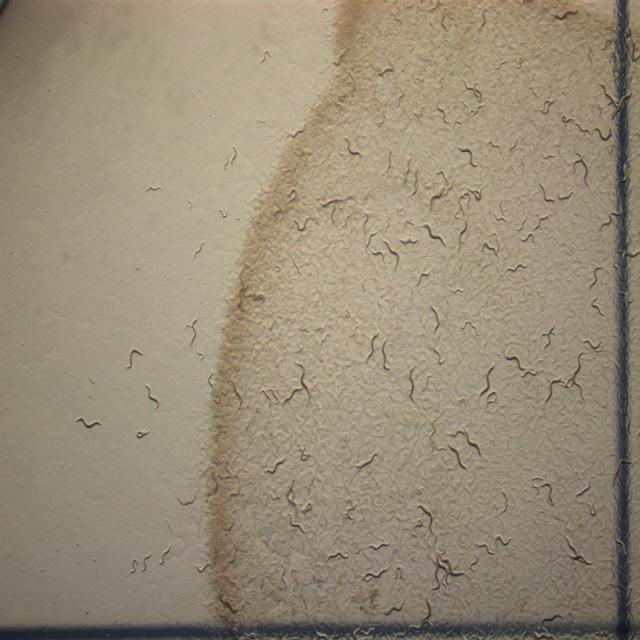filarid: (545, 354, 580, 403), (450, 427, 481, 455), (505, 352, 538, 377), (479, 362, 498, 404), (430, 184, 452, 209), (448, 444, 468, 469), (422, 224, 445, 245), (430, 420, 446, 450), (459, 200, 468, 249), (286, 512, 306, 534), (361, 566, 390, 581), (365, 330, 379, 361), (449, 444, 466, 468), (286, 479, 298, 511), (224, 145, 238, 169), (265, 458, 286, 474), (344, 137, 361, 156), (541, 325, 555, 348), (146, 384, 159, 408), (126, 349, 142, 368), (76, 417, 101, 429), (430, 305, 440, 333), (381, 340, 390, 370), (284, 387, 300, 403), (296, 362, 306, 386), (544, 482, 554, 505), (159, 544, 171, 563), (159, 544, 171, 563), (409, 365, 415, 401), (459, 148, 472, 164), (326, 551, 349, 560), (369, 541, 389, 551), (432, 347, 444, 363), (394, 564, 405, 581), (178, 495, 196, 505), (141, 554, 151, 571), (435, 170, 448, 183), (468, 440, 480, 454), (404, 157, 411, 181), (194, 242, 204, 258), (385, 147, 391, 173), (195, 562, 210, 572), (129, 559, 138, 573), (344, 505, 353, 519), (412, 172, 418, 193), (146, 185, 161, 192), (470, 190, 480, 199), (302, 502, 311, 511), (270, 492, 280, 500), (391, 604, 402, 611), (167, 520, 172, 530), (220, 210, 226, 217), (188, 199, 192, 209), (384, 611, 391, 616), (392, 547, 398, 552), (455, 212, 459, 219), (545, 198, 552, 202), (358, 464, 363, 466)
